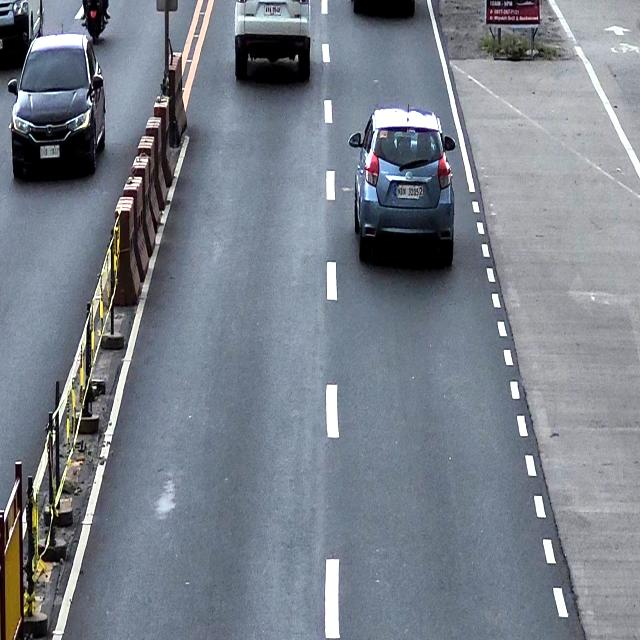Car: (348, 104, 456, 266), (7, 32, 106, 180), (234, 0, 311, 81), (0, 0, 45, 65)
License-Plate: (395, 182, 424, 200), (40, 143, 60, 159), (263, 4, 282, 17), (0, 38, 4, 50)
Motorcycle: (81, 0, 110, 43)
